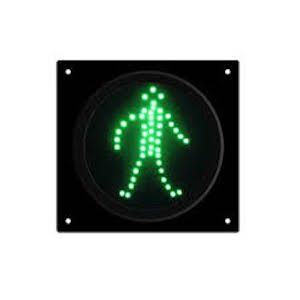green: (103, 83, 191, 207)
